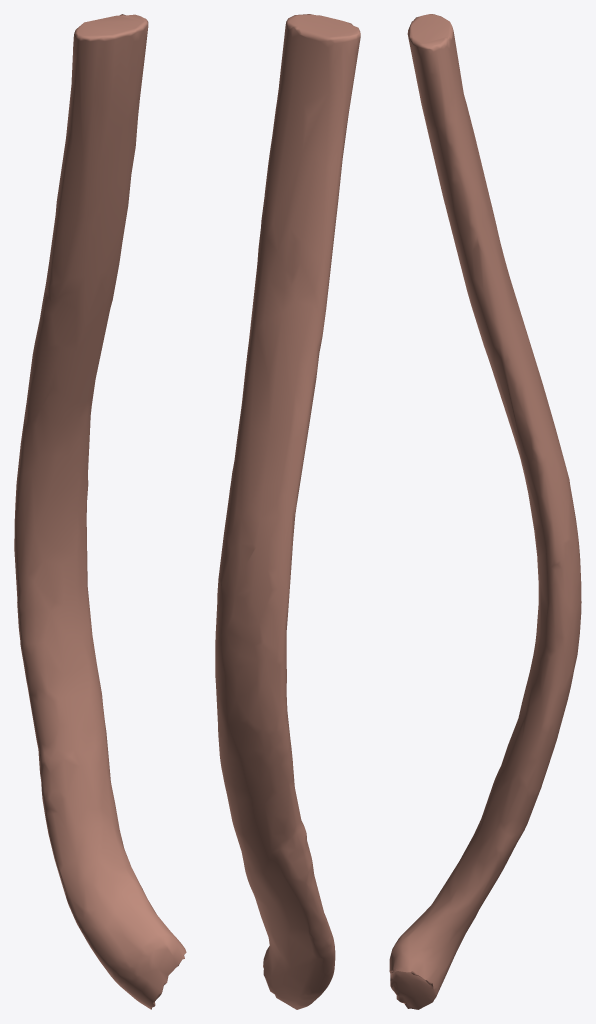
The model's file is explorar-esophagus.glb.
The picture shows the model from 3 angles, left to right: view 1: azimuth 30°, elevation 25°; view 2: azimuth 150°, elevation 25°; view 3: azimuth 270°, elevation 25°; orthographic projection. The views are drawn at different scales.
Visible parts, largest first — view 1: esophagus__toracica, esophagus__cervical, esophagus__abdominal; view 2: esophagus__toracica, esophagus__cervical, esophagus__abdominal; view 3: esophagus__toracica, esophagus__cervical, esophagus__abdominal.
Boxes of the visible parts, <box> form: esophagus__toracica: <box>14,125,169,946</box>; esophagus__cervical: <box>57,14,148,219</box>; esophagus__abdominal: <box>79,915,186,1009</box>; esophagus__toracica: <box>215,143,343,967</box>; esophagus__cervical: <box>264,14,360,256</box>; esophagus__abdominal: <box>263,940,335,1009</box>; esophagus__toracica: <box>402,138,581,948</box>; esophagus__cervical: <box>407,14,489,224</box>; esophagus__abdominal: <box>389,926,468,1009</box>.
Size of the model in its own units: 0.0259 by 0.2494 by 0.045.
